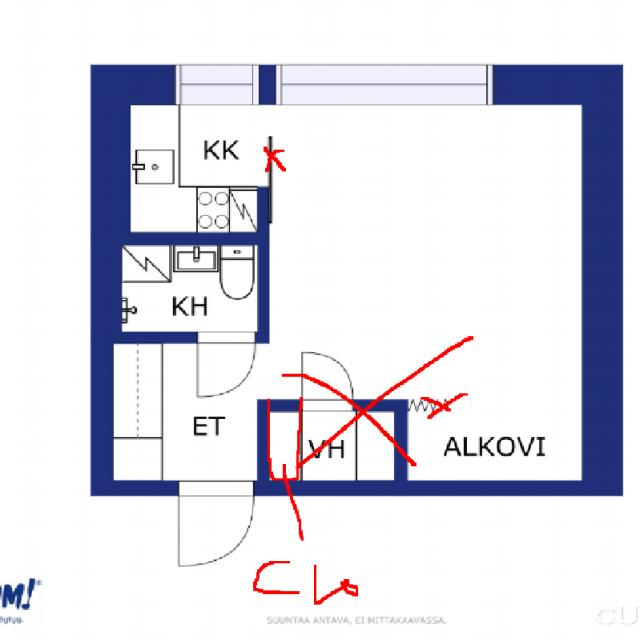door: (179, 480, 254, 566), (197, 332, 256, 398)
